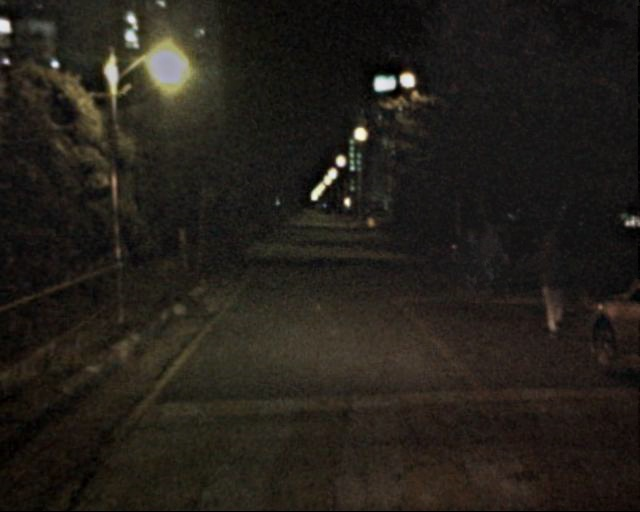person: (524, 223, 580, 342), (479, 221, 515, 298), (457, 227, 493, 302)
